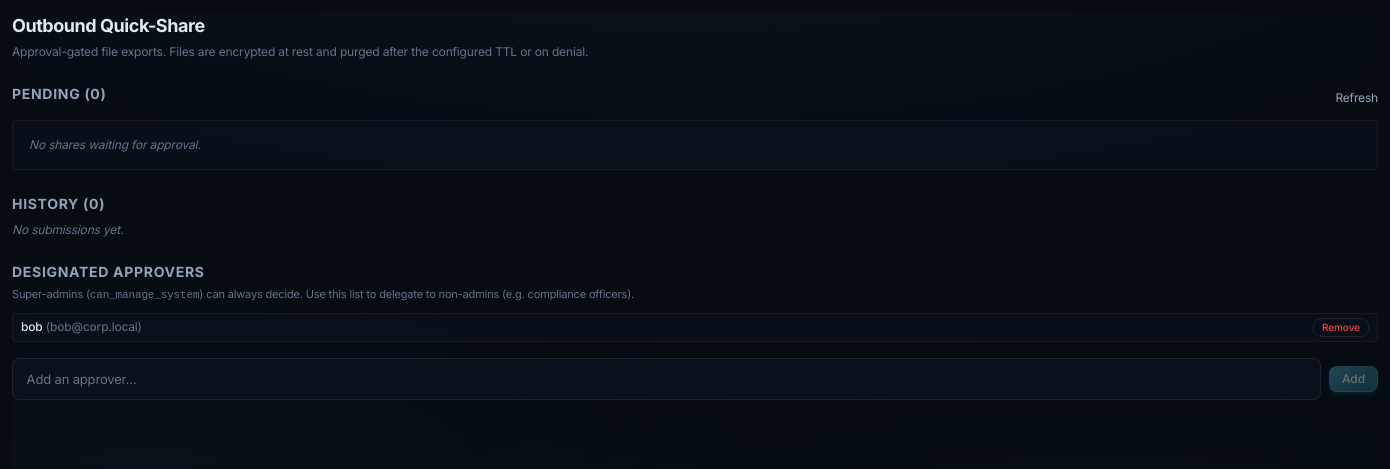
Scenario: OutboundSharesTab › does not offer users who are already approvers
Expected: the heading "Designated Approvers" is shown, [12,263,205,280]
Click the dropdown labelled "Add an approver": (666, 379) [12,358,1321,400]
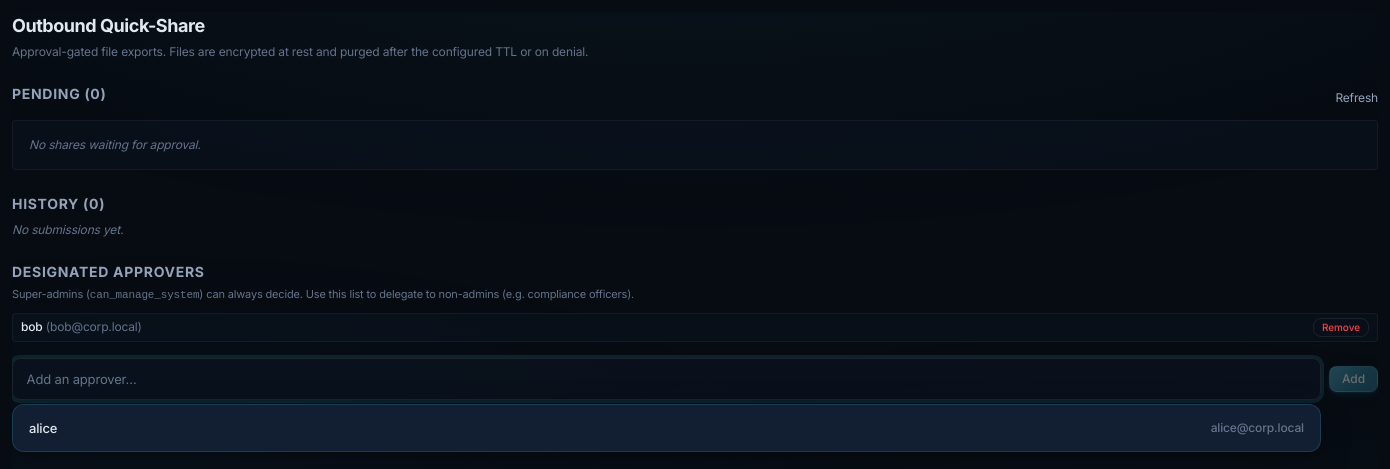
Now the option "alice alice@corp.local" is shown, box [17,409,1316,447]
